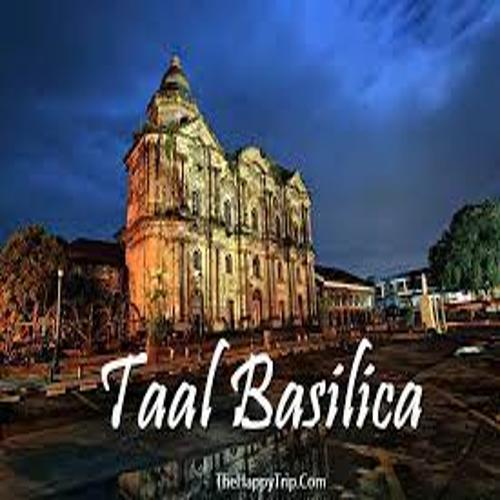Taal Basilica Church: (117, 44, 320, 350)
